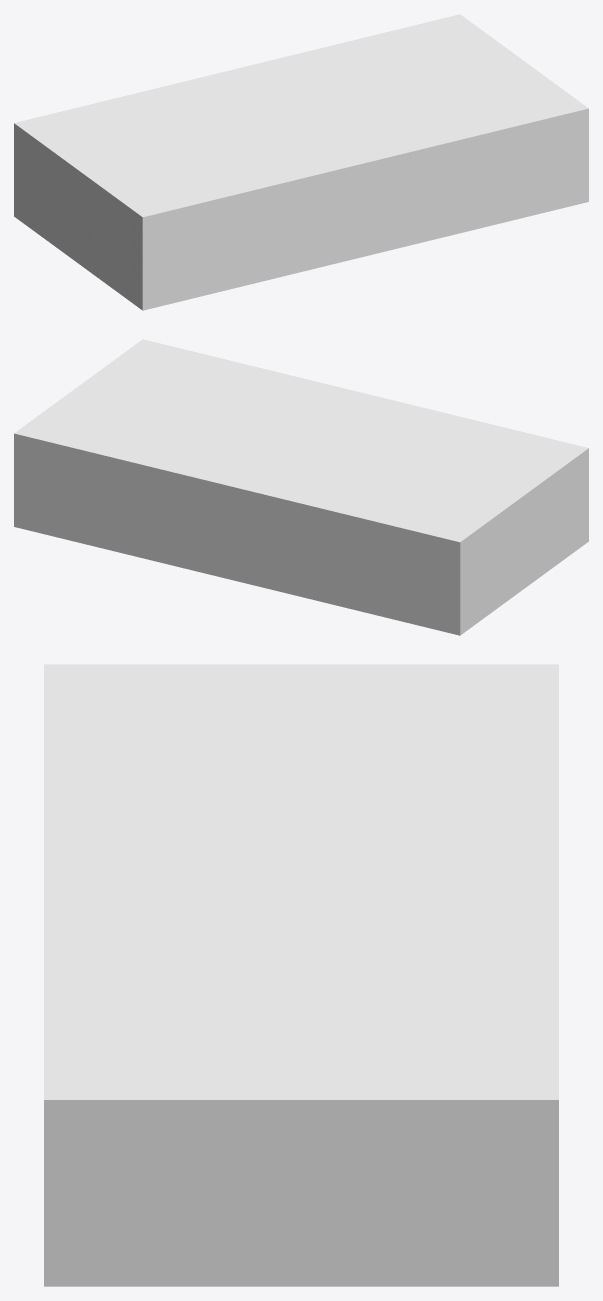
Rendered from BaoPian_FG_TB_BanZhuan_1X1_on.FBX.
3 renders of one model, top to bottom at view 1: azimuth 30°, elevation 25°; view 2: azimuth 150°, elevation 25°; view 3: azimuth 270°, elevation 25°, orthographic. The views are drawn at different scales.
Visible parts, largest first — view 1: Box003; view 2: Box003; view 3: Box003.
Boxes of the visible parts, left/top/right/bottom form: Box003: left=14, top=14, right=588, bottom=310; Box003: left=14, top=339, right=588, bottom=635; Box003: left=44, top=664, right=558, bottom=1286.
Size of the model in its own units: 1 by 0.2 by 0.5.
